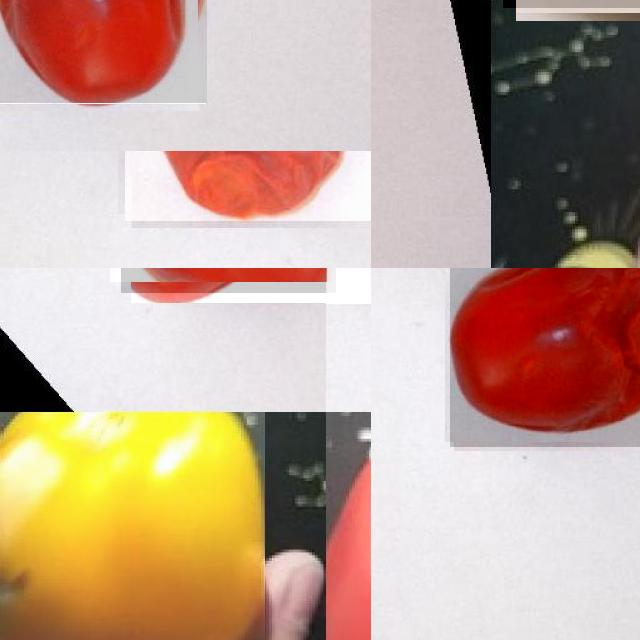Rotten Tomato: (0, 412, 264, 640), (450, 268, 640, 446), (0, 0, 206, 103), (125, 151, 371, 221)
